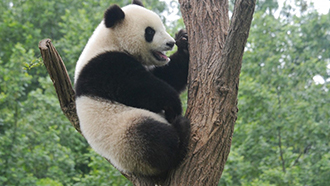panda: (73, 1, 195, 186)
